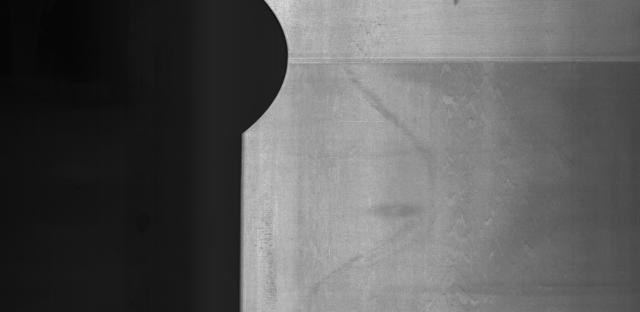crescent_gap: (217, 0, 305, 139)
welding_line: (280, 54, 640, 72)
